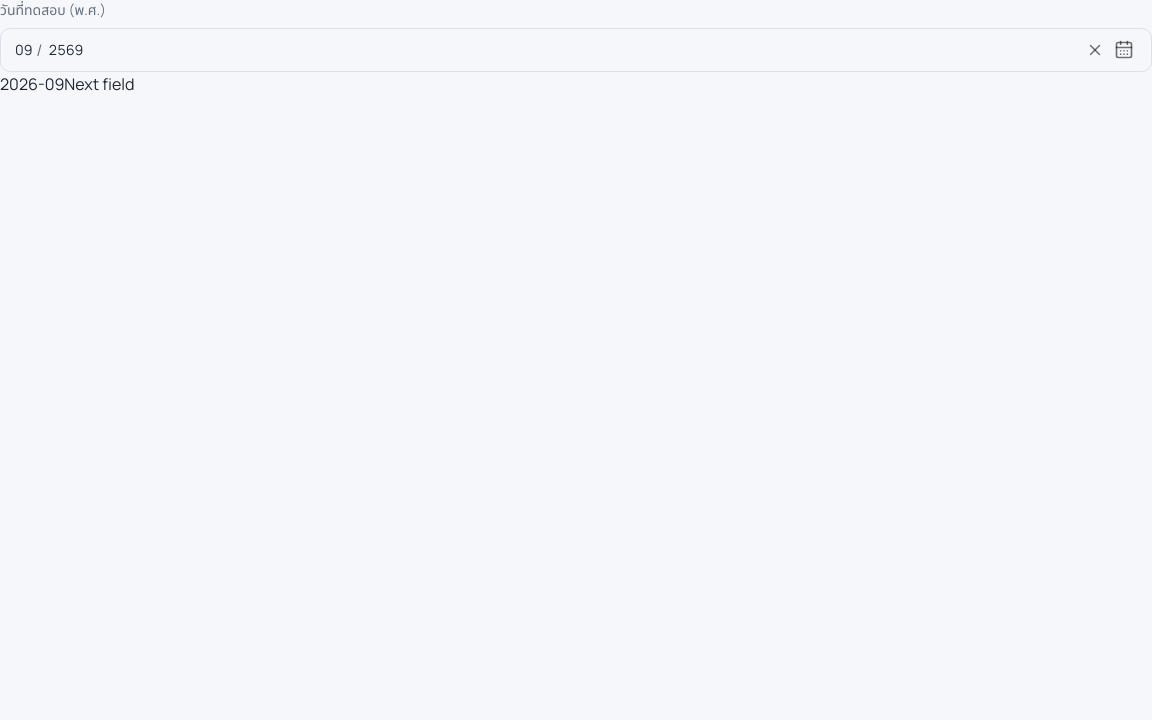
adaptive pickers › selects a Thai calendar month with a Gregorian ISO value
What coordinates should you click on to do the following:
click the button named "เปิดวันที่ทดสอบ"
I would click on:
 (1124, 50)
Its box is [1109,35,1139,65].
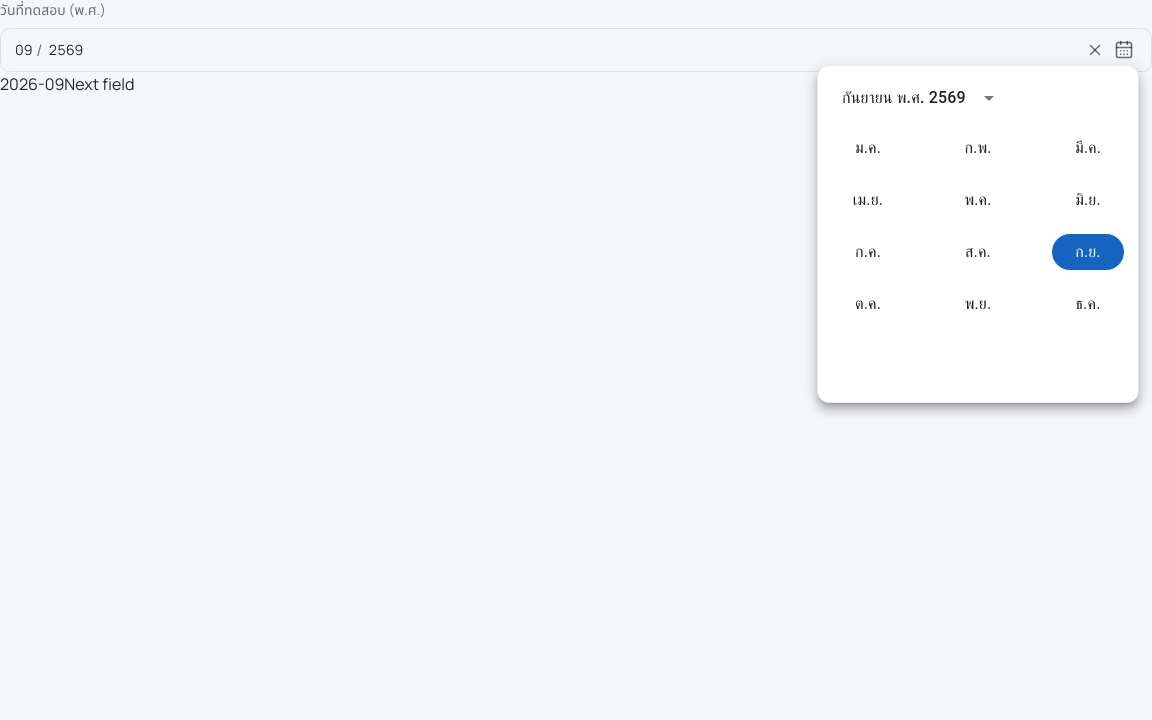
What coordinates should you click on to do the following:
click the radio button named "ตุลาคม"
I would click on:
 (868, 304)
Its box is [832,286,904,322].
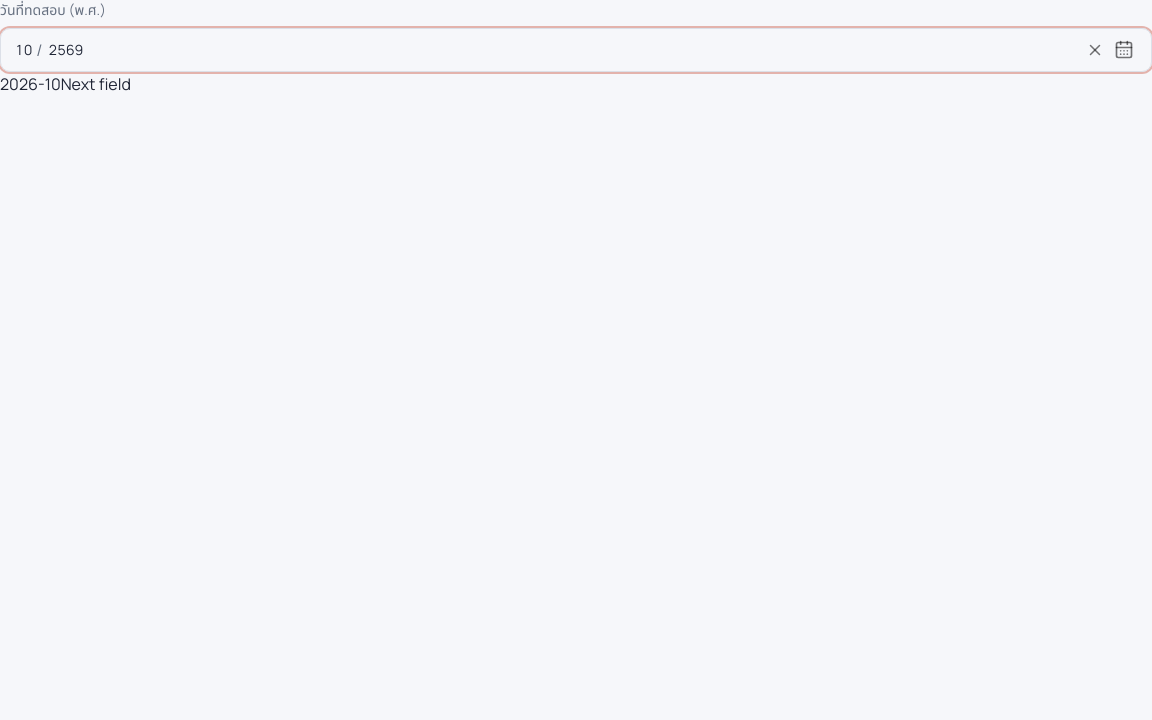
Check: the text with test id "value" reads "2026-10", box [0,73,61,95]
